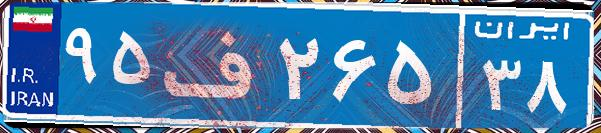2: (273, 28, 330, 110)
3: (475, 38, 525, 113)
5: (385, 28, 445, 110), (110, 28, 158, 105)
6: (330, 28, 385, 110)
8: (525, 38, 570, 115)
9: (57, 26, 110, 107)
ف: (158, 15, 273, 115)
